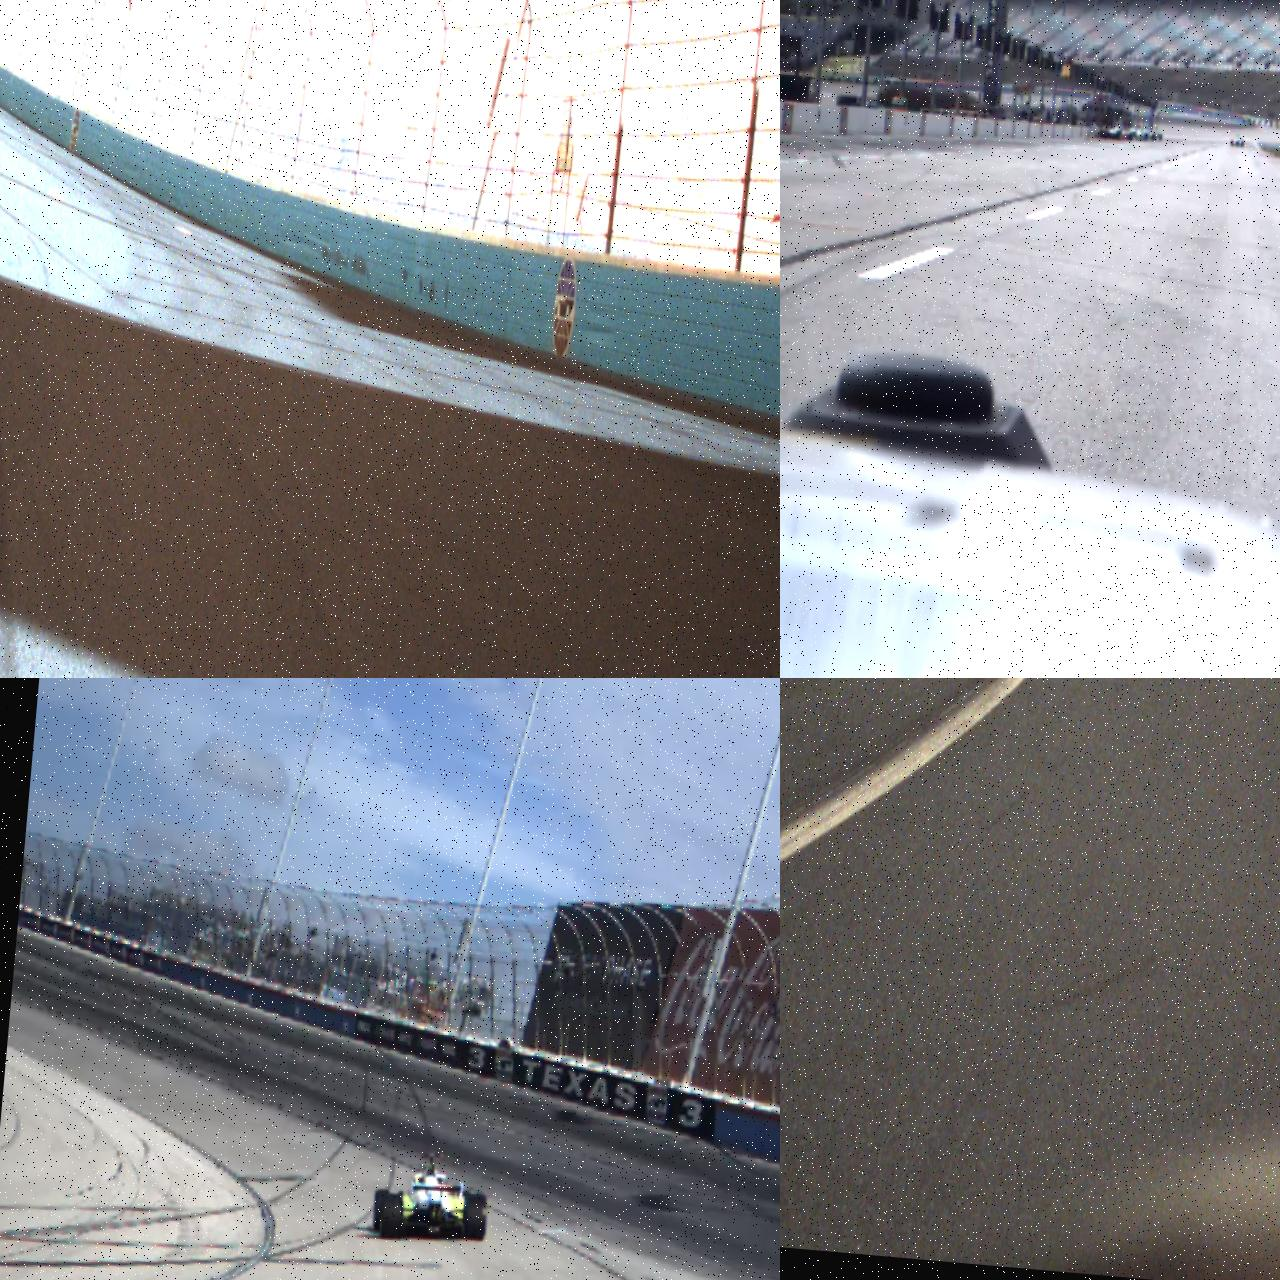AV: (371, 1144, 493, 1248), (1230, 135, 1246, 148)
Wheel: (462, 1193, 489, 1242), (380, 1193, 404, 1239), (372, 1188, 390, 1232)
